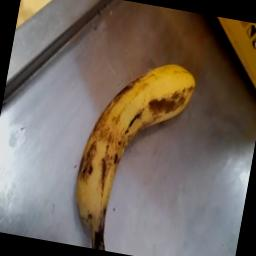Banana Overripe: (61, 29, 210, 256)
